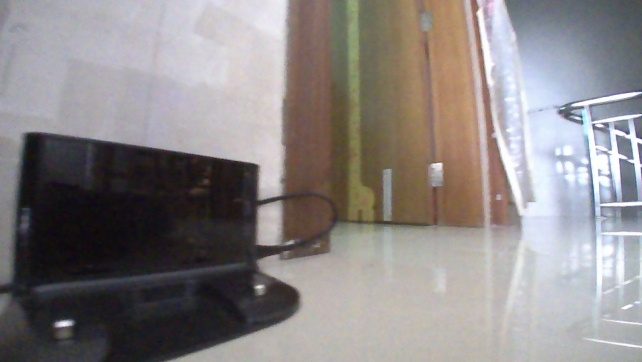charger: (0, 125, 303, 361)
door: (328, 0, 488, 230)
wire: (254, 187, 340, 261)
